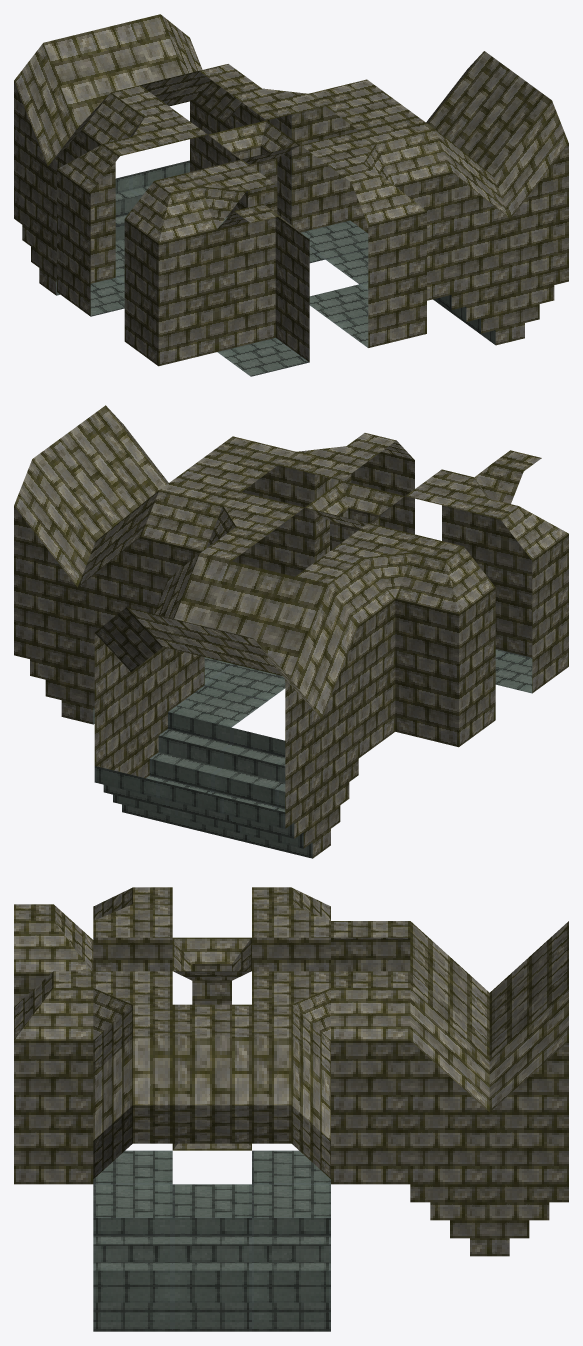
Rendered from walls.glb.
The picture shows the model from 3 angles, top to bottom: view 1: azimuth 30°, elevation 25°; view 2: azimuth 150°, elevation 25°; view 3: azimuth 270°, elevation 25°; orthographic projection. The views are drawn at different scales.
Visible parts, largest first — view 1: wall_inner_corner3-col, wall_inner_corner-col, stair_wall4-col, stair_wall7-col, wall_inner_corner2-col, stair_wall2-col, wall_inner_corner4-col, wall-col, wall2-col, stair_wall8-col, stair_center4-col, stair_center2-col (+13 smaller); view 2: wall_inner_corner4-col, stair_wall3-col, stair_wall5-col, stair_wall6-col, wall_inner_corner3-col, stair_wall8-col, stair_center3-col, stair_wall7-col, wall4-col, stair_wall-col, wall-col, wall2-col (+12 smaller); view 3: stair_wall8-col, stair_wall6-col, wall3-col, wall_inner_corner2-col, stair_center-col, stair_wall2-col, stair_wall-col, stair_center2-col, stair_wall4-col, stair_wall3-col, wall_outer_corner2-col, wall_outer_corner-col (+14 smaller).
Boxes of the visible parts, <box> form: wall_inner_corner3-col: <box>124,174,216,366</box>; wall_inner_corner-col: <box>217,204,309,376</box>; stair_wall4-col: <box>477,88,568,341</box>; stair_wall7-col: <box>14,35,99,289</box>; wall_inner_corner2-col: <box>335,163,426,347</box>; stair_wall2-col: <box>435,129,510,345</box>; wall_inner_corner4-col: <box>57,136,148,316</box>; wall-col: <box>291,79,383,259</box>; wall2-col: <box>359,116,451,300</box>; stair_wall8-col: <box>131,14,223,198</box>; stair_center4-col: <box>73,21,154,244</box>; stair_center2-col: <box>444,63,534,162</box>; wall_inner_corner4-col: <box>395,538,495,747</box>; stair_wall3-col: <box>14,445,113,720</box>; stair_wall5-col: <box>266,577,358,851</box>; stair_wall6-col: <box>131,553,231,793</box>; wall_inner_corner3-col: <box>469,498,568,693</box>; stair_wall8-col: <box>94,607,194,827</box>; stair_center3-col: <box>206,561,294,809</box>; stair_wall7-col: <box>221,630,321,858</box>; wall4-col: <box>295,550,395,758</box>; stair_wall-col: <box>77,490,158,724</box>; wall-col: <box>141,476,240,684</box>; wall2-col: <box>215,436,314,576</box>; stair_wall8-col: <box>489,971,568,1256</box>; stair_wall6-col: <box>410,971,489,1256</box>; wall3-col: <box>331,971,410,1184</box>; wall_inner_corner2-col: <box>14,971,93,1184</box>; stair_center-col: <box>172,1038,251,1284</box>; stair_wall2-col: <box>93,1038,172,1284</box>; stair_wall-col: <box>252,1038,330,1284</box>; stair_center2-col: <box>172,1105,251,1331</box>; stair_wall4-col: <box>93,1105,172,1331</box>; stair_wall3-col: <box>252,1105,330,1331</box>; wall_outer_corner2-col: <box>93,971,172,1184</box>; wall_outer_corner-col: <box>252,971,330,1184</box>.
Size of the model in its own units: 7 by 3.5 by 7.
1 material, 1 textured.
